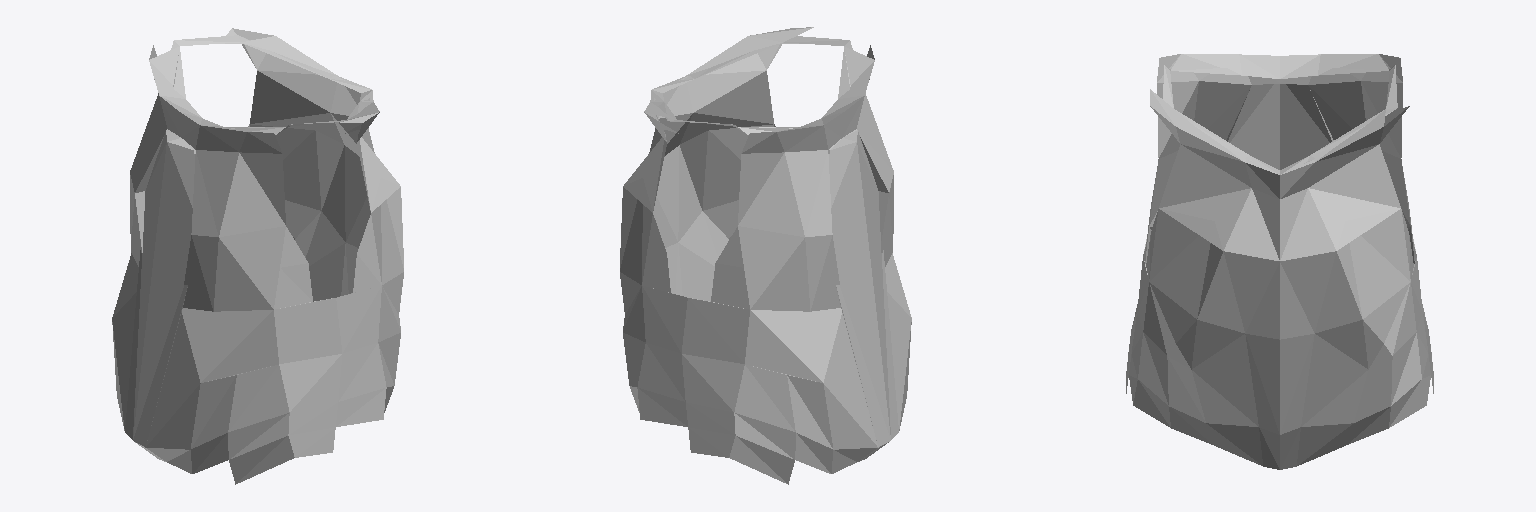
Rendered from badan2.obj.
3 views of the same model, side by side, from view 1: azimuth 30°, elevation 25°; view 2: azimuth 150°, elevation 25°; view 3: azimuth 270°, elevation 25° (orthographic).
Visible parts, largest first — view 1: Body.000; view 2: Body.000; view 3: Body.000.
Boxes of the visible parts, <box> form: Body.000: <box>112,28,403,484</box>; Body.000: <box>620,27,911,484</box>; Body.000: <box>1126,54,1433,469</box>.
Bounding box in the file's own units: 0.6098 × 0.8495 × 0.6592.